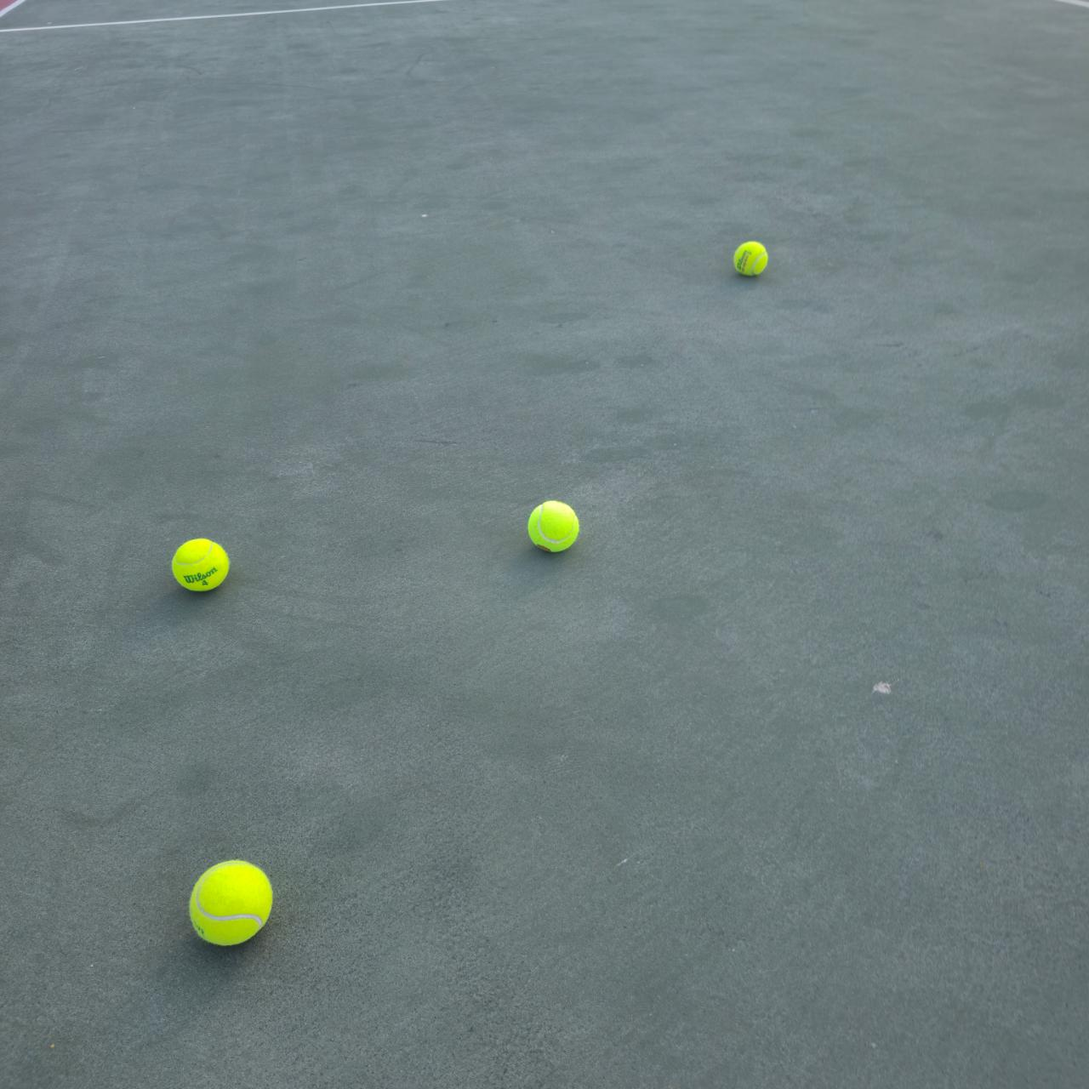tennis-ball: (186, 856, 274, 947), (169, 535, 231, 593), (525, 497, 581, 553), (733, 241, 769, 277)
